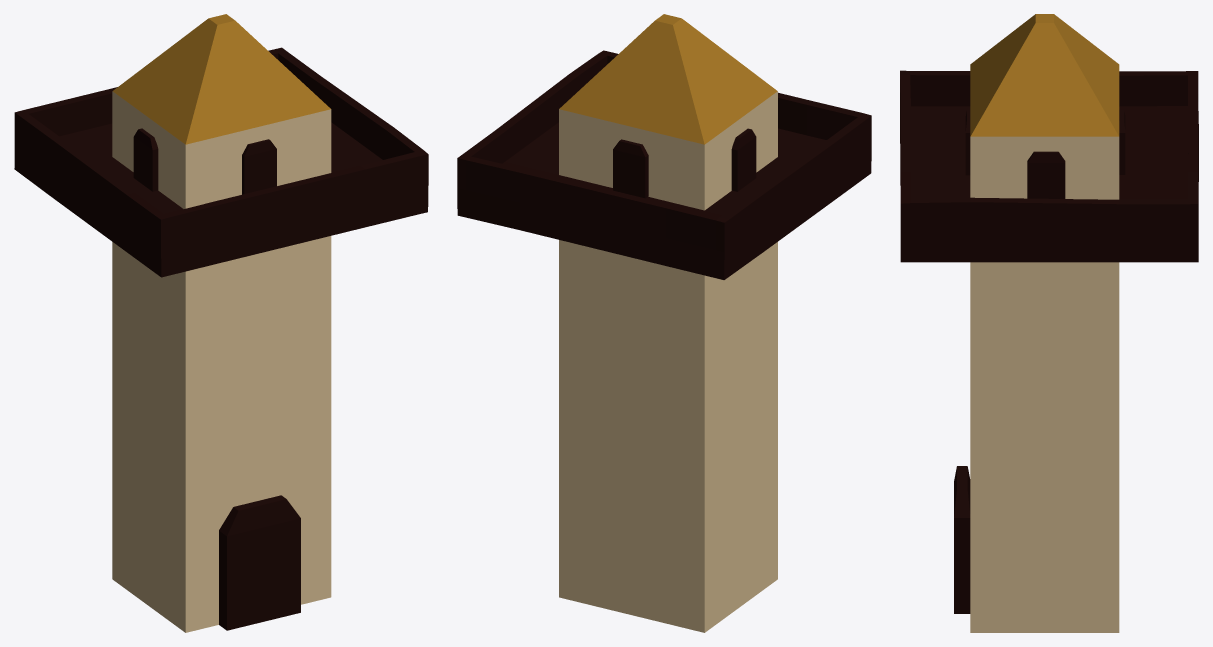
Rendered from watchtower.FBX.
The picture shows the model from 3 angles, left to right: view 1: azimuth 30°, elevation 25°; view 2: azimuth 150°, elevation 25°; view 3: azimuth 270°, elevation 25°; orthographic projection.
Visible parts, largest first — view 1: Tower; view 2: Tower; view 3: Tower.
Part boxes in pixels (box(x1,y1,x2,y2)): Tower: box(14, 14, 428, 632); Tower: box(457, 14, 871, 632); Tower: box(900, 14, 1198, 632).
Bounding box in the file's own units: 30.84 × 29.31 × 62.58.
